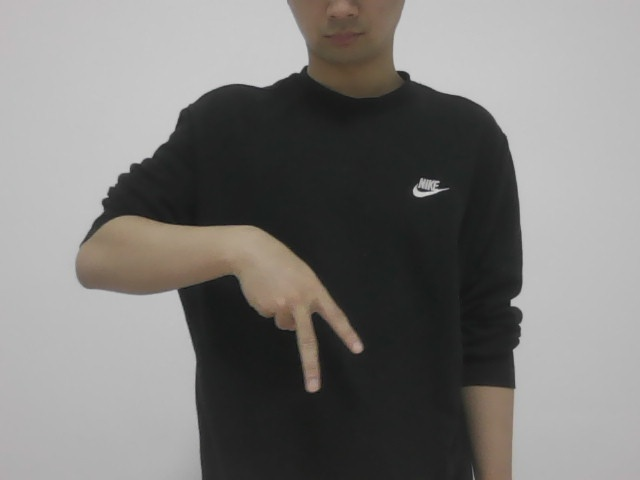walk: (228, 216, 373, 395)
